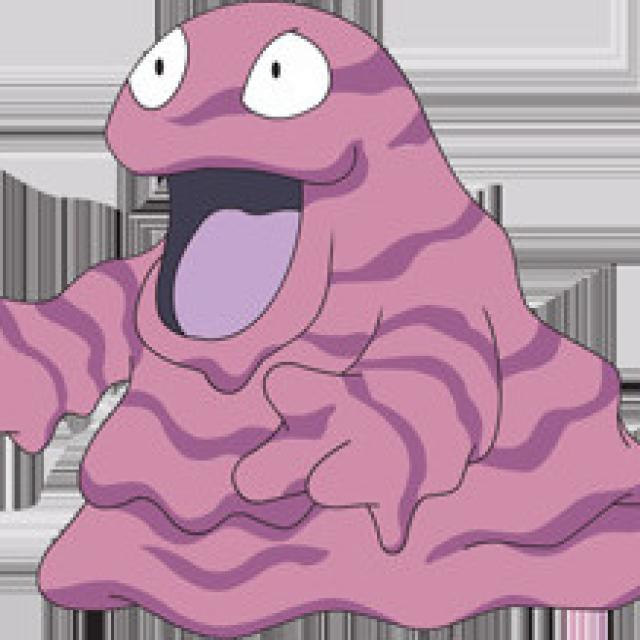Grimer: (0, 1, 606, 625)
